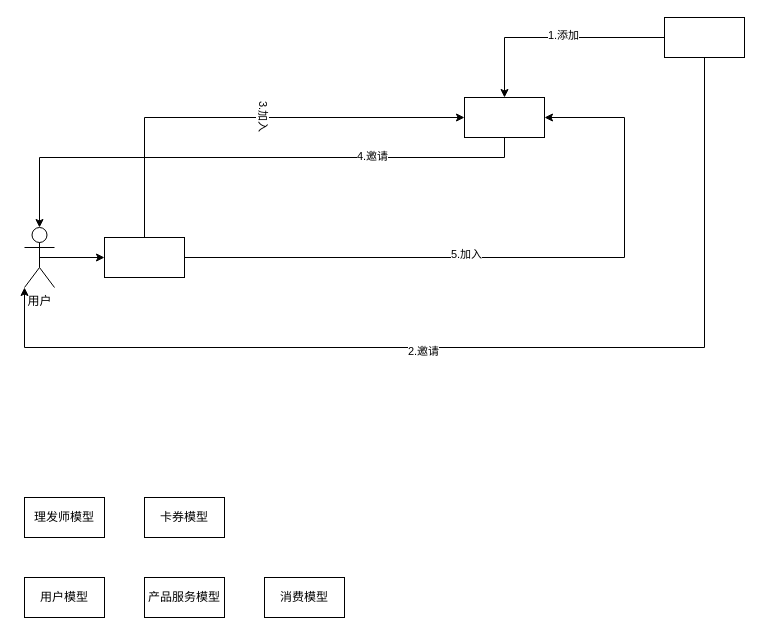
Some shapes in this 762 by 635 pixel diagram are drawn without their labels. Each missing label, with the centre of its shape:
"商户" belongs at pixel 504 117.
"注册" belongs at pixel 144 257.
"运营" belongs at pixel 704 37.
